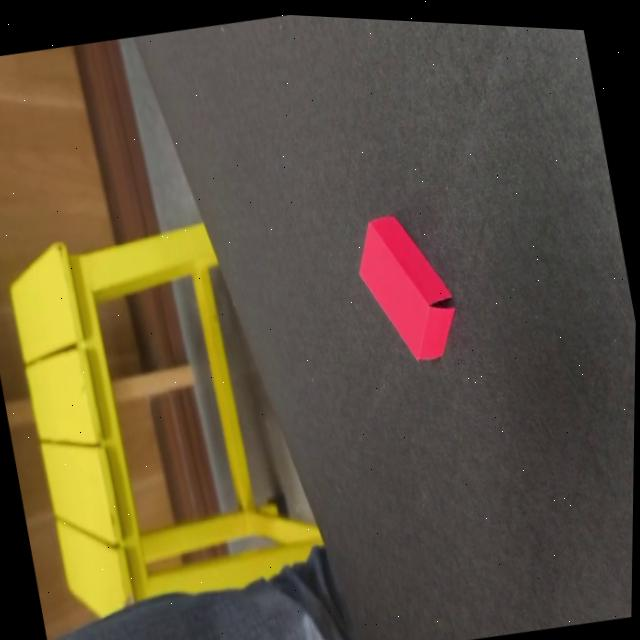red block: (346, 205, 465, 375)
